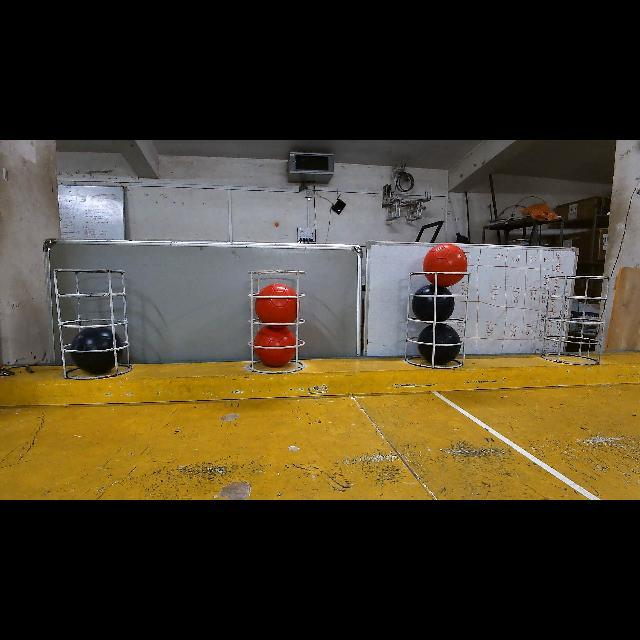P: (70, 329, 123, 374), (418, 322, 461, 365), (411, 284, 455, 321)
R: (422, 244, 468, 287), (254, 326, 296, 368), (255, 282, 296, 324)
S: (52, 266, 136, 382), (246, 268, 308, 382), (406, 266, 470, 372), (548, 272, 608, 372)
